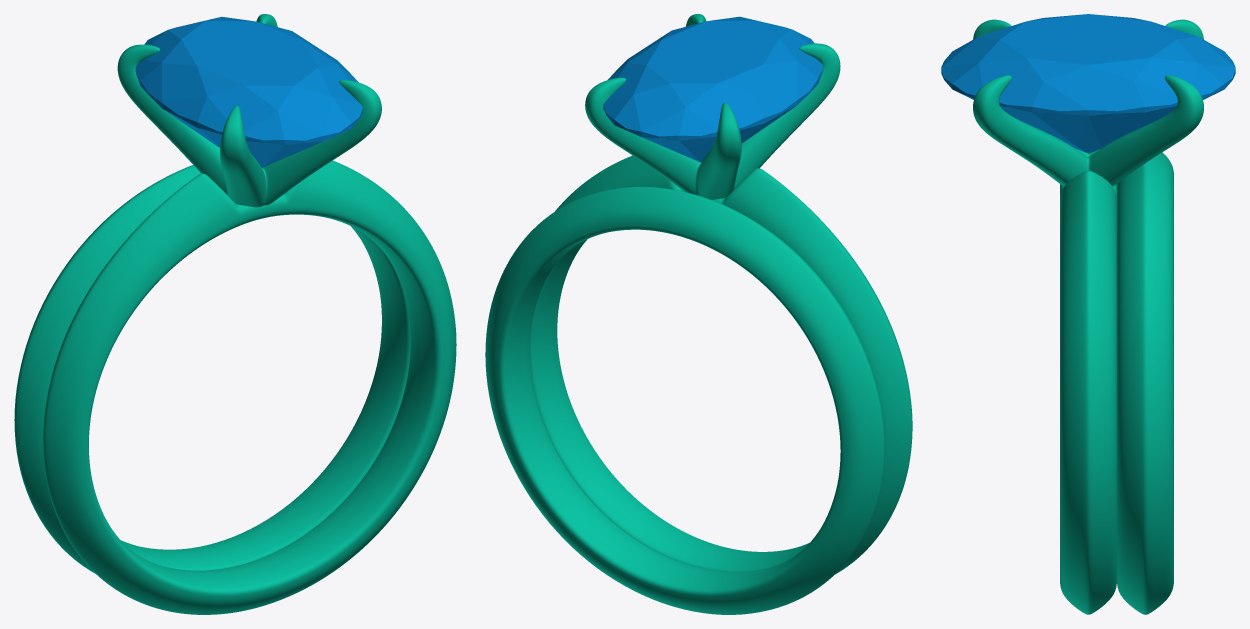
3 renders of one model, left to right at view 1: azimuth 30°, elevation 25°; view 2: azimuth 150°, elevation 25°; view 3: azimuth 270°, elevation 25°, orthographic. The views are drawn at different scales.
Parts seen in each view (by area): view 1: 01.3dm, Diamond_Oval; view 2: 01.3dm, Diamond_Oval; view 3: 01.3dm, Diamond_Oval.
Part boxes in pixels (box(x1,y1,x2,y2)): 01.3dm: box(14, 14, 456, 614); Diamond_Oval: box(135, 16, 362, 167); 01.3dm: box(485, 14, 912, 614); Diamond_Oval: box(603, 16, 822, 162); 01.3dm: box(973, 19, 1203, 614); Diamond_Oval: box(941, 14, 1235, 153).
Size of the model in its own units: 2.29 by 2.95 by 1.43.
